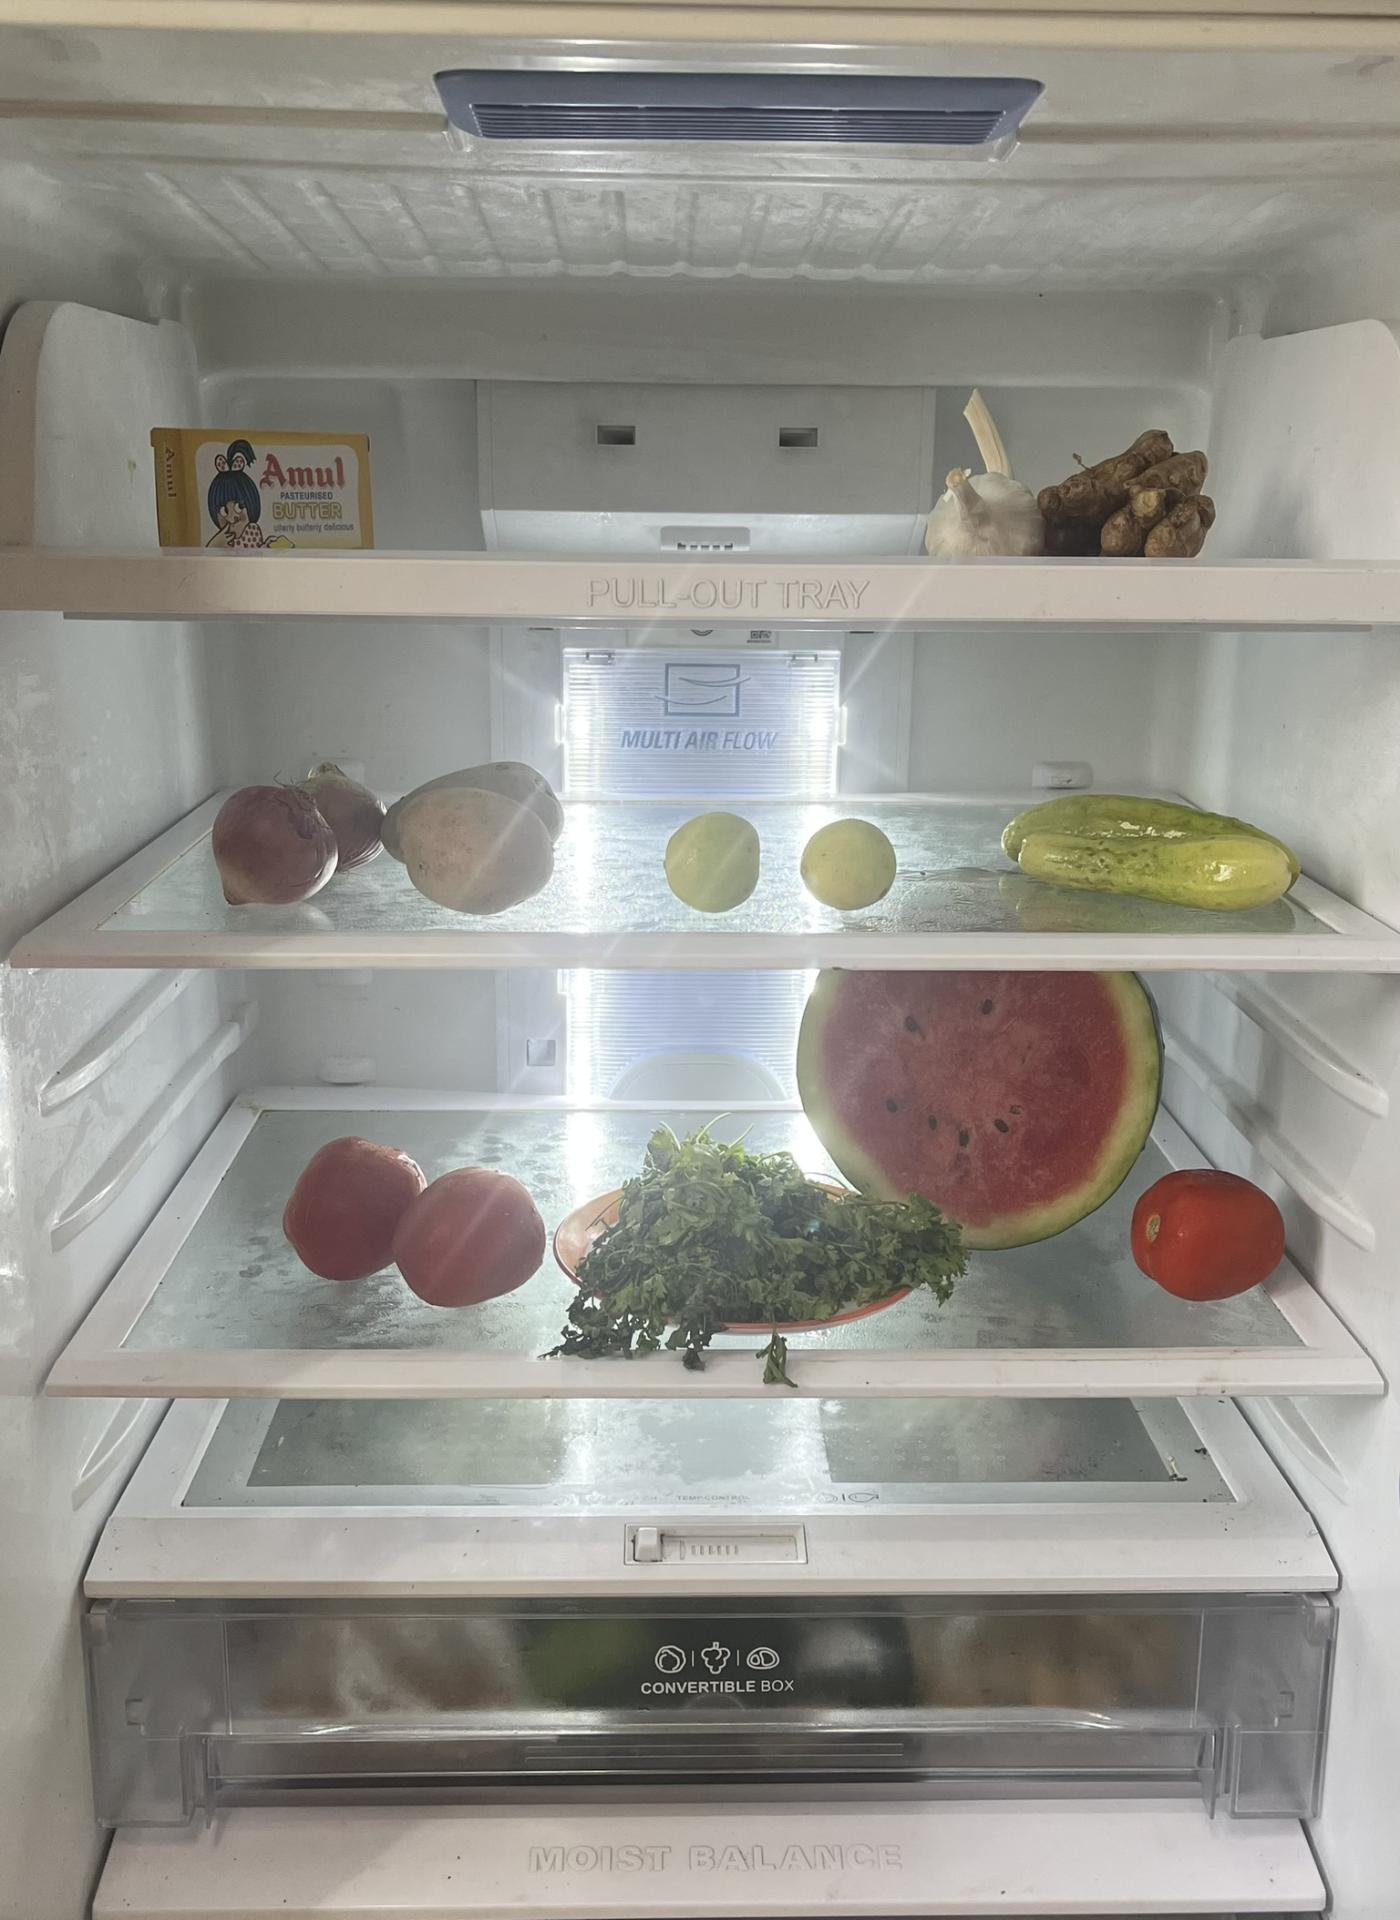butter: (157, 414, 362, 552)
coriander: (576, 1127, 960, 1358)
cucumber: (1003, 789, 1311, 909)
garlic: (923, 377, 1030, 549)
ginger: (1054, 443, 1224, 555)
lemon: (808, 817, 901, 909), (675, 812, 754, 899)
onion: (231, 762, 385, 890)
potato: (386, 756, 567, 912)
tomato: (294, 1127, 541, 1300), (1127, 1173, 1300, 1312)
watermelon: (799, 959, 1178, 1234)
